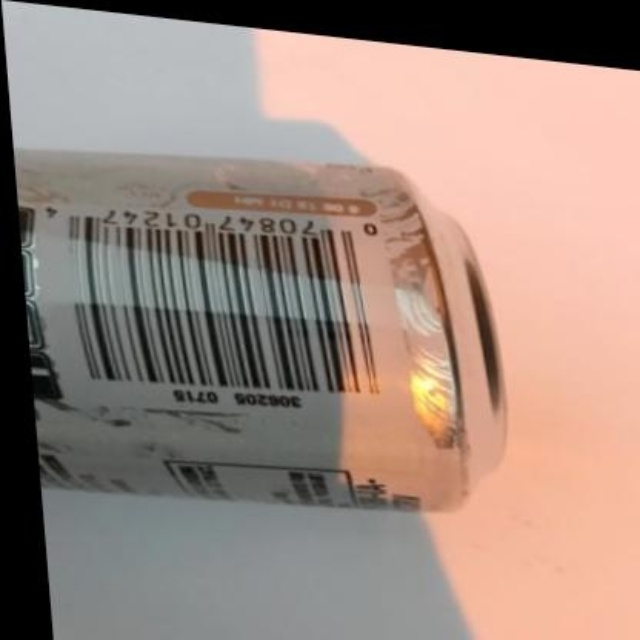trash: (17, 151, 505, 509)
